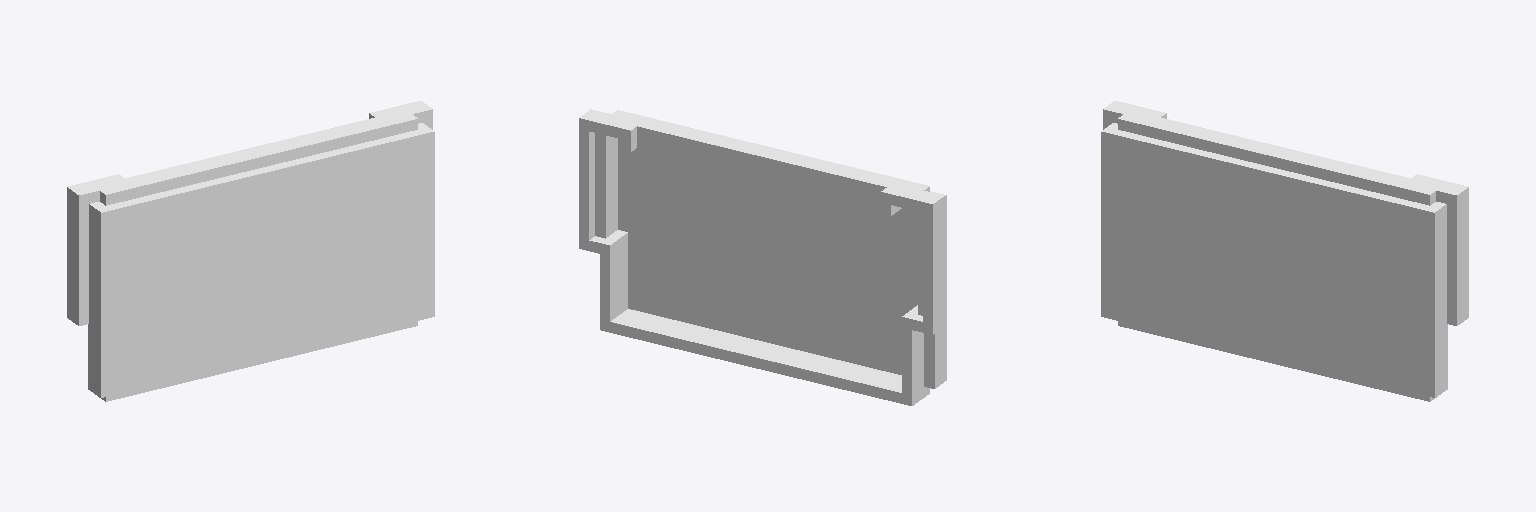
The model's file is CristalTraje.obj.
3 views of the same model, side by side, from view 1: azimuth 30°, elevation 25°; view 2: azimuth 150°, elevation 25°; view 3: azimuth 330°, elevation 25° (orthographic).
Visible parts, largest first — view 1: object 1; view 2: object 1; view 3: object 1.
Part boxes in pixels (left/top/right/bottom): object 1: left=67, top=101, right=434, bottom=401; object 1: left=579, top=109, right=946, bottom=405; object 1: left=1101, top=101, right=1468, bottom=401.
Size of the model in its own units: 3.4 by 1.9 by 0.4.